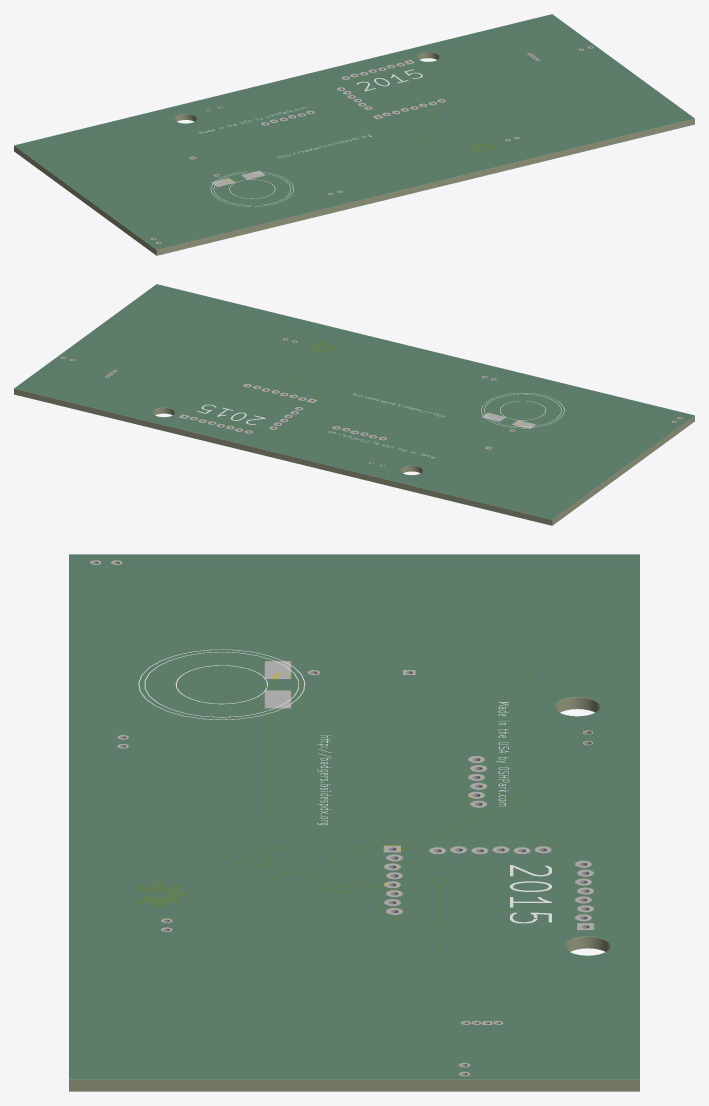
The model's file is bsidespdx-2015-badger-badge.glb.
3 views of the same model, one above another, from view 1: azimuth 30°, elevation 25°; view 2: azimuth 150°, elevation 25°; view 3: azimuth 270°, elevation 25° (orthographic). The views are drawn at different scales.
Visible parts, largest first — view 1: =>[0:1:1:7], =>[0:1:1:9], =>[0:1:1:2], =>[0:1:1:5]; view 2: =>[0:1:1:7], =>[0:1:1:9], =>[0:1:1:2], =>[0:1:1:5]; view 3: =>[0:1:1:7], =>[0:1:1:9], =>[0:1:1:2], =>[0:1:1:5].
Boxes of the visible parts, x1,y1,x2,y2 form: =>[0:1:1:7]: (14,14,694,255); =>[0:1:1:9]: (14,15,694,255); =>[0:1:1:2]: (136,46,592,243); =>[0:1:1:5]: (199,69,422,206); =>[0:1:1:7]: (14,284,694,525); =>[0:1:1:9]: (14,285,694,525); =>[0:1:1:2]: (61,338,682,470); =>[0:1:1:5]: (197,393,564,458); =>[0:1:1:7]: (69,554,639,1091); =>[0:1:1:9]: (69,555,639,1091); =>[0:1:1:2]: (90,560,599,1076); =>[0:1:1:5]: (138,649,551,923).
Size of the model in its own units: 0.1496 by 0.00166 by 0.0687.
4 materials, 4 textured.
